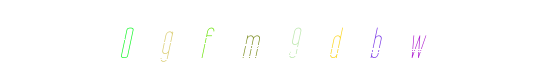0: (108, 0, 188, 80)
9: (229, 0, 309, 80)
B: (358, 0, 438, 80)
D: (242, 0, 322, 80)
F: (196, 0, 276, 80)
G: (151, 0, 231, 80)
M: (211, 0, 291, 80)
W: (360, 0, 440, 80)
